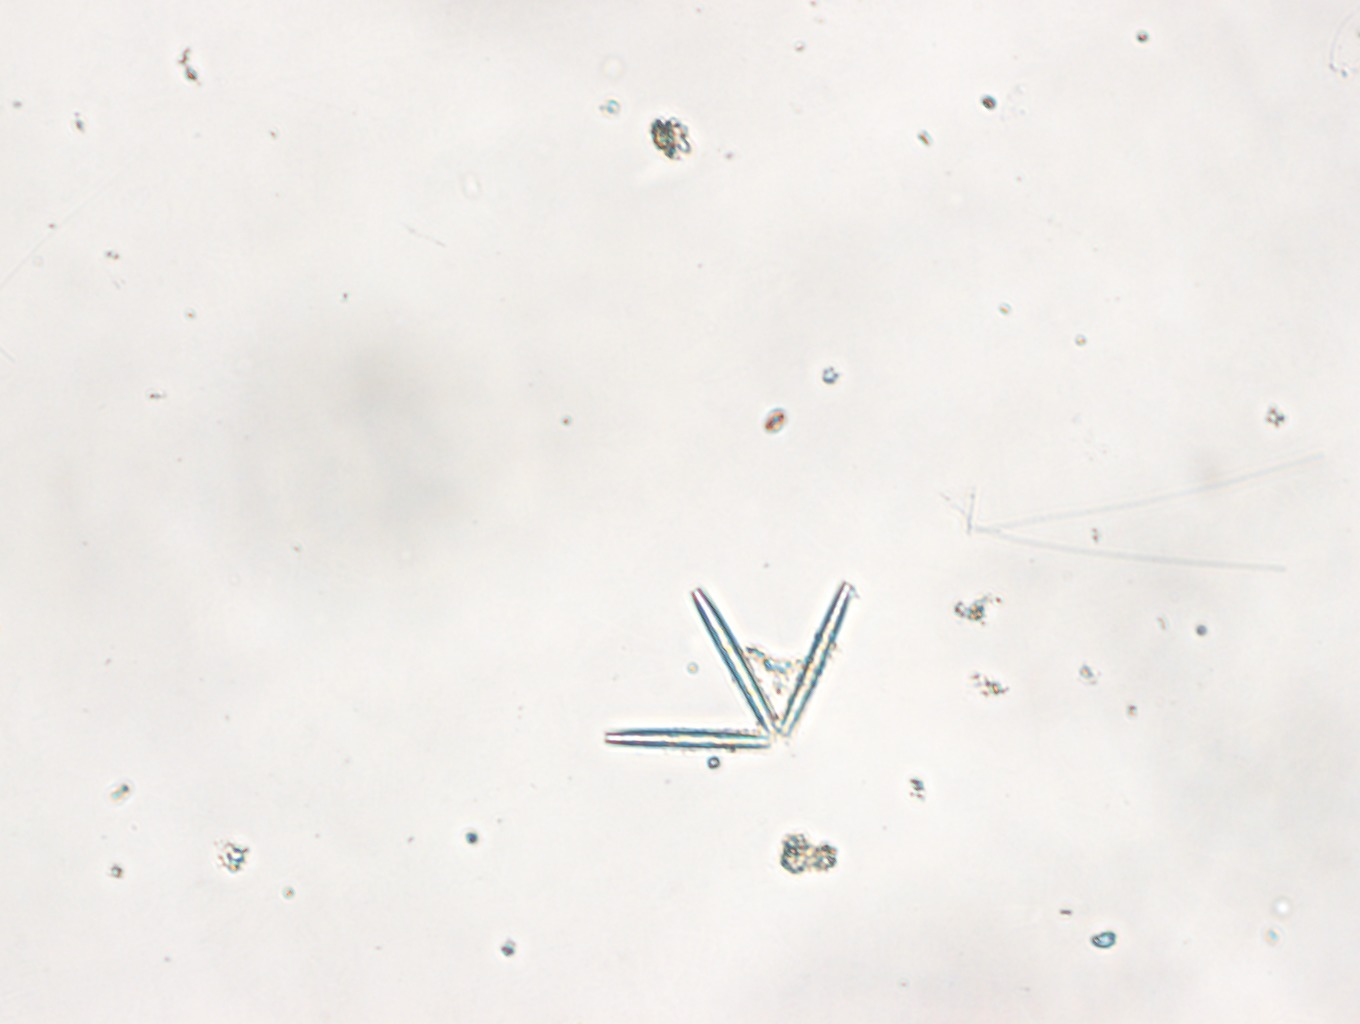thalassionema nitzschioides: (603, 579, 848, 749)
